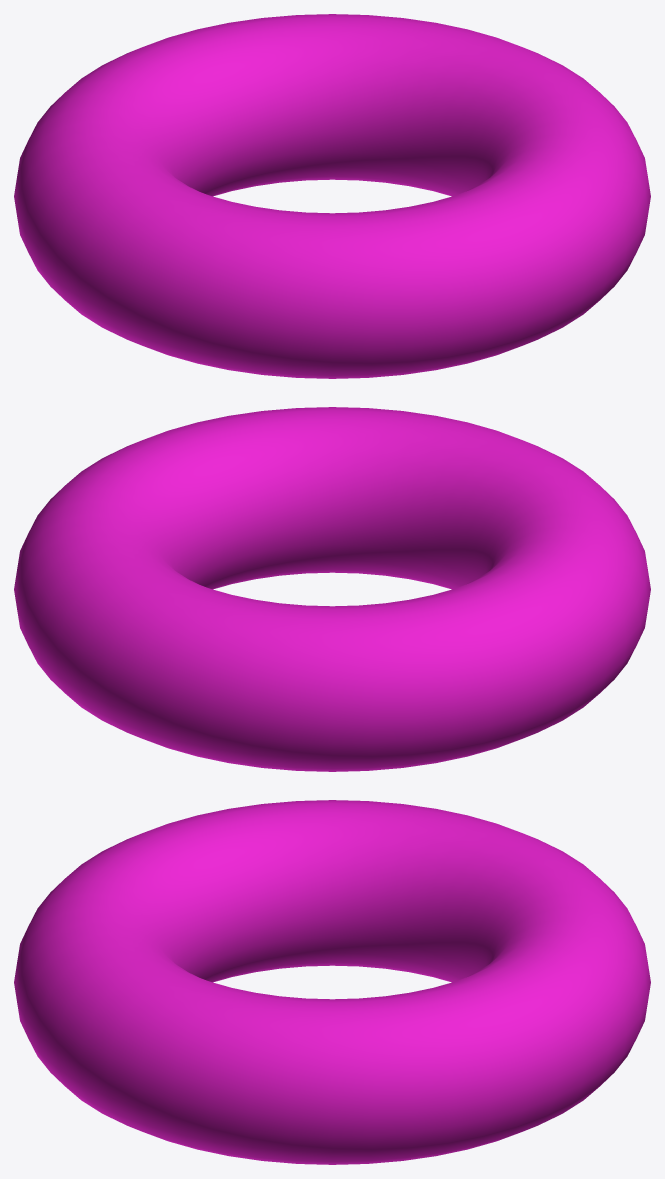
3 renders of one model, top to bottom at view 1: azimuth 30°, elevation 25°; view 2: azimuth 150°, elevation 25°; view 3: azimuth 270°, elevation 25°, orthographic.
Visible parts, largest first — view 1: Torus.001; view 2: Torus.001; view 3: Torus.001.
Part boxes in pixels (box(x1,y1,x2,y2)): Torus.001: box(14, 14, 650, 378); Torus.001: box(14, 407, 650, 771); Torus.001: box(14, 800, 650, 1164).
Size of the model in its own units: 0.9999 by 0.2574 by 0.9999.
